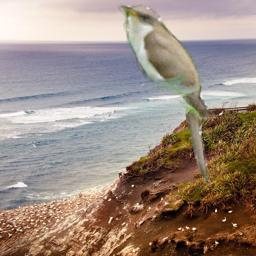Cuckoo: (114, 0, 214, 186)
